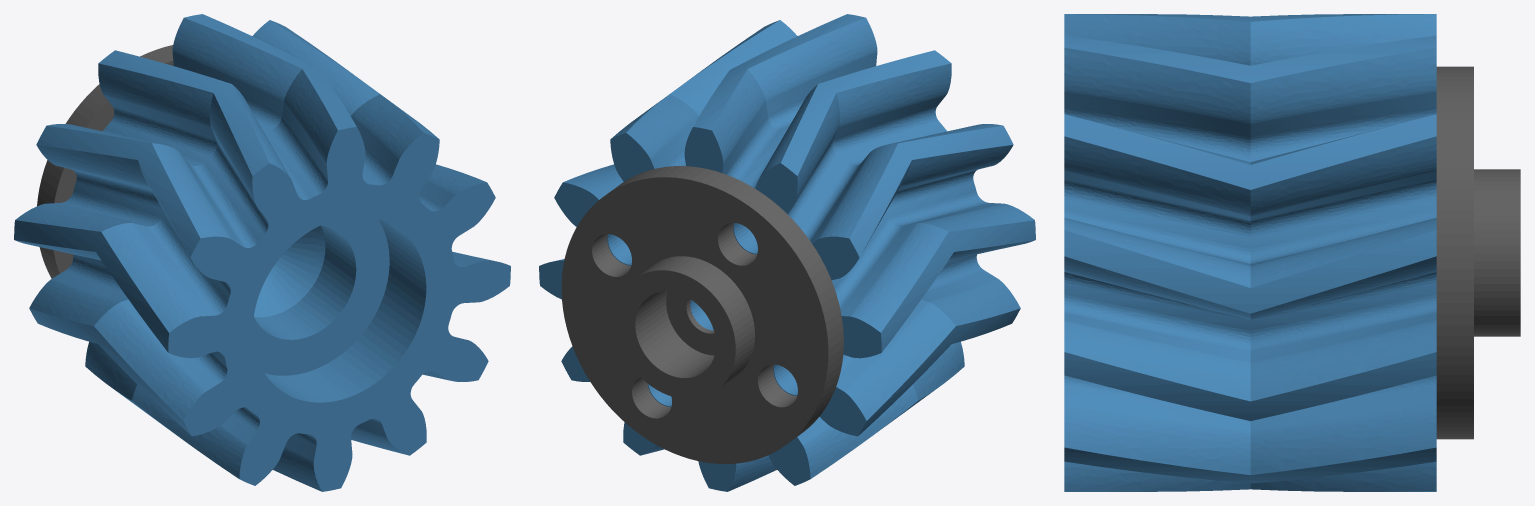
Rendered from drive_gear.obj.
3 renders of one model, left to right at view 1: azimuth 30°, elevation 25°; view 2: azimuth 150°, elevation 25°; view 3: azimuth 270°, elevation 25°, orthographic. The views are drawn at different scales.
Size of the model in its own units: 25.67 by 25.67 by 24.5.
